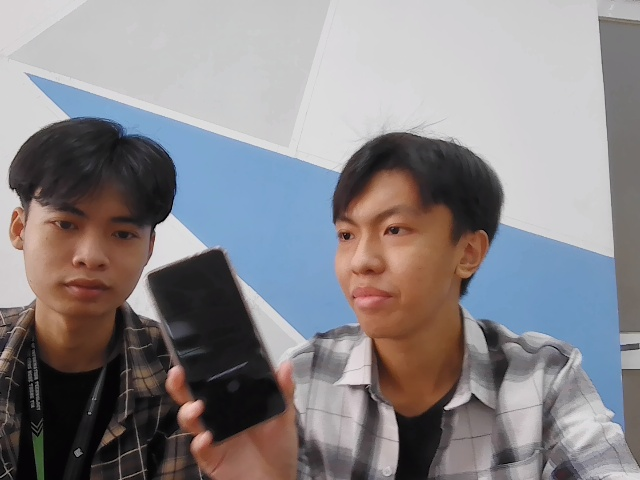human: (321, 120, 508, 331), (15, 104, 164, 321)
phone: (141, 243, 290, 450)
